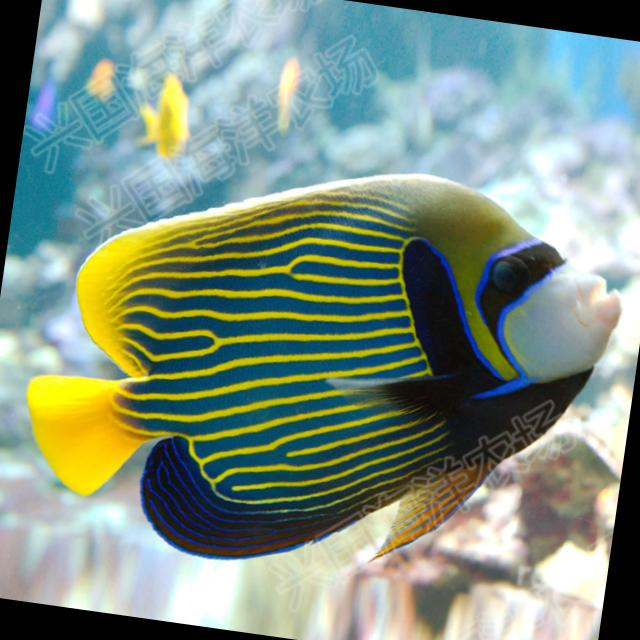AngelFish: (12, 125, 638, 613)
